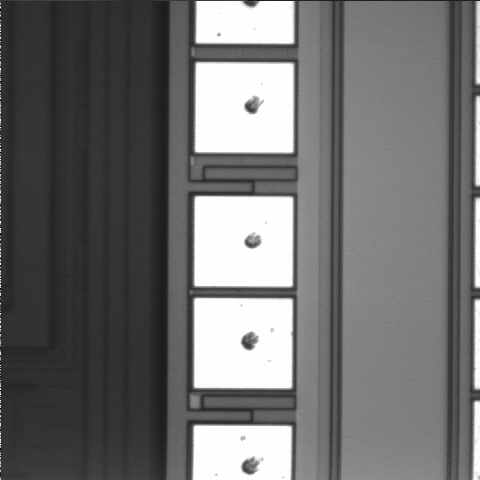pad: (195, 62, 294, 153), (194, 196, 293, 287), (194, 298, 292, 388)
